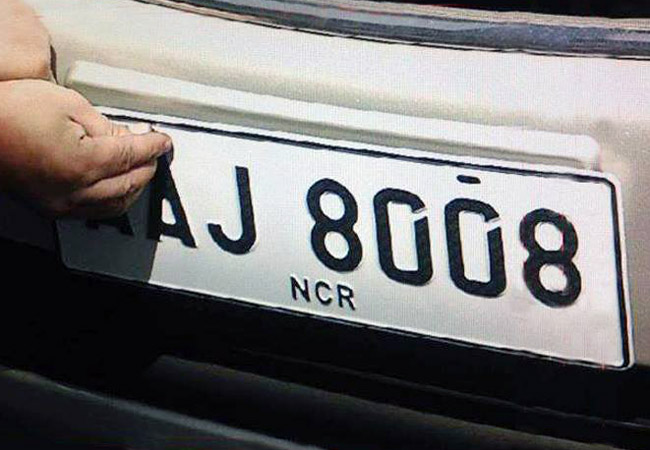license plate: (50, 104, 640, 376)
